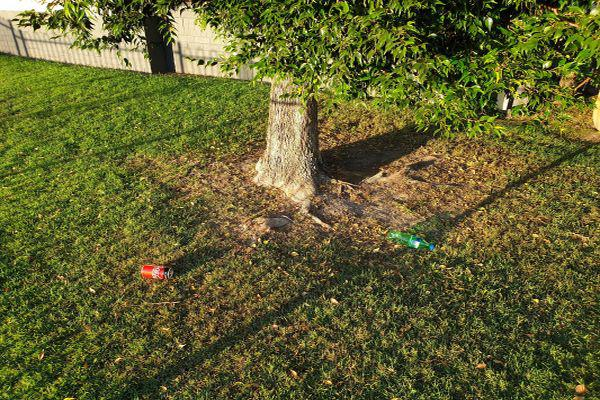Plastic Bottle: (385, 229, 435, 251), (140, 264, 174, 280)
